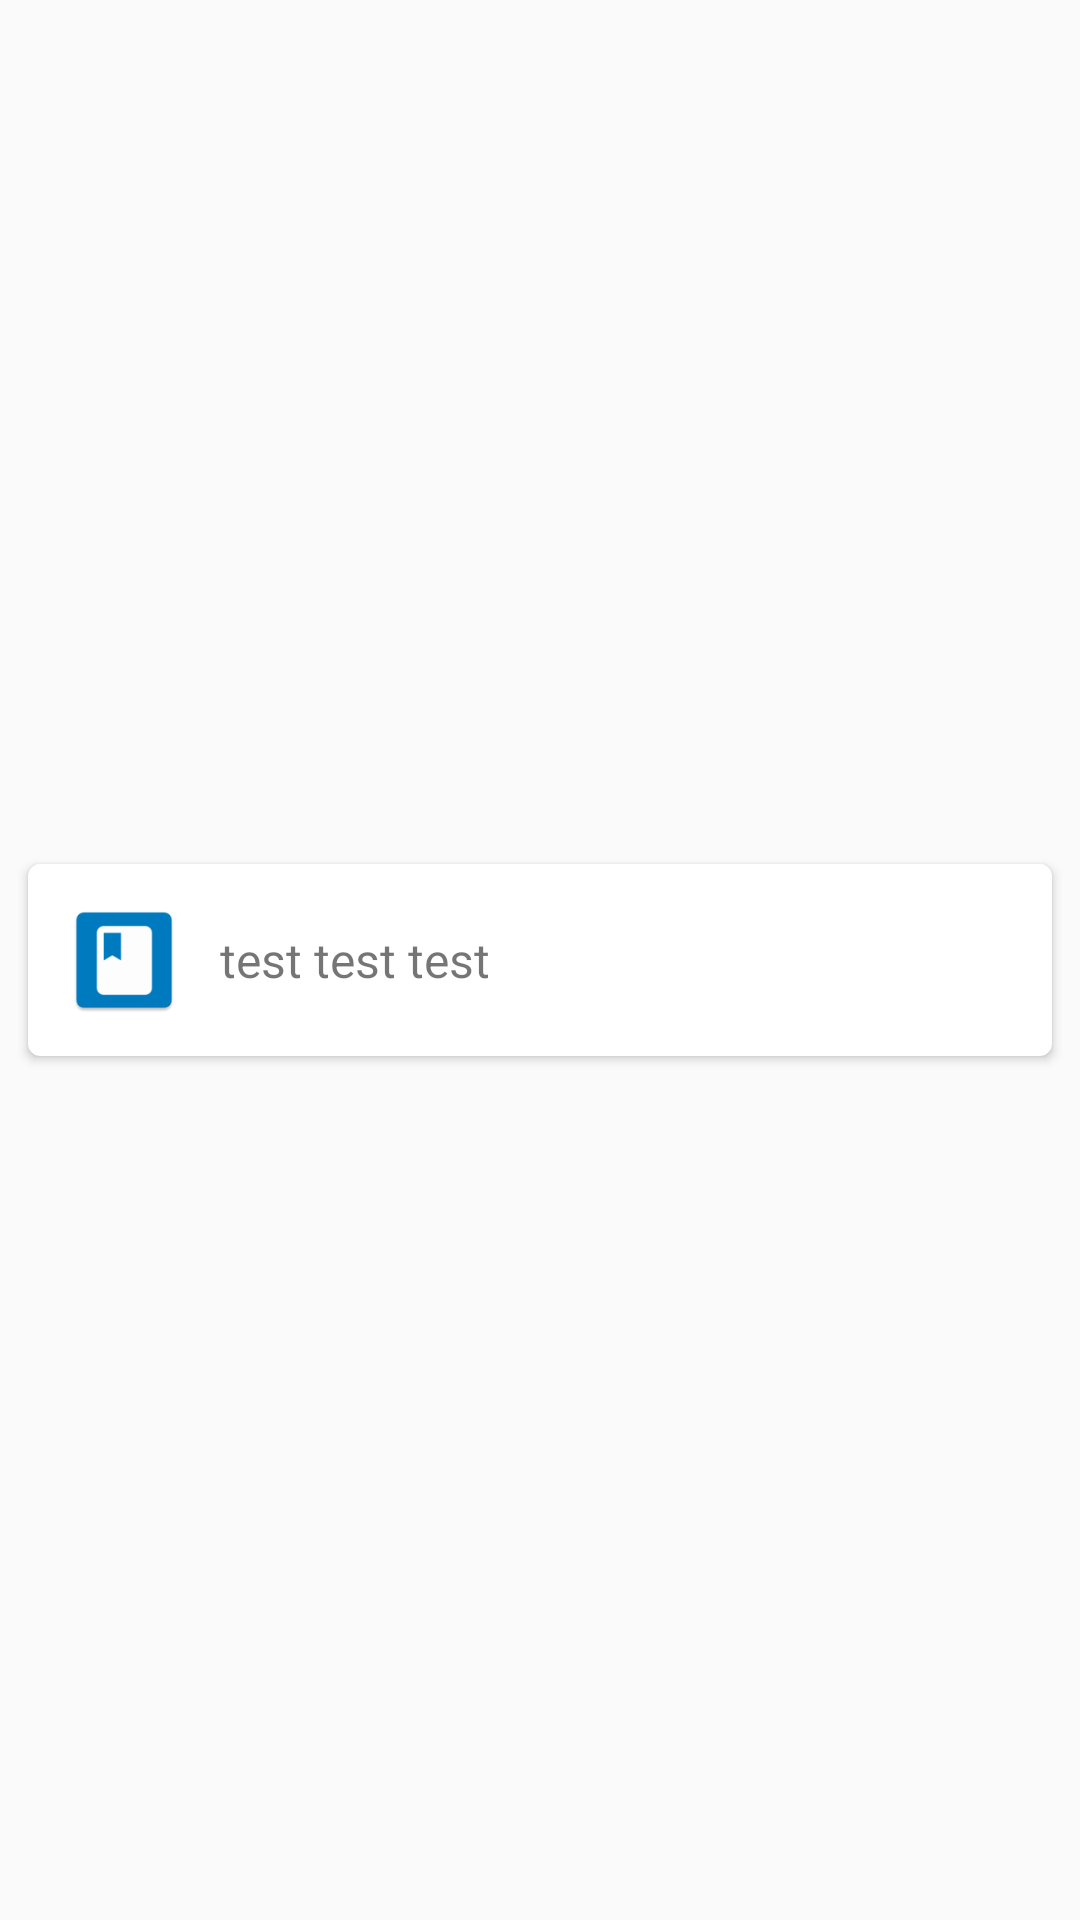

Icons on this 1080px×1920px Android screen, each with the point to tap as [x,y]:
book: [124,961]
